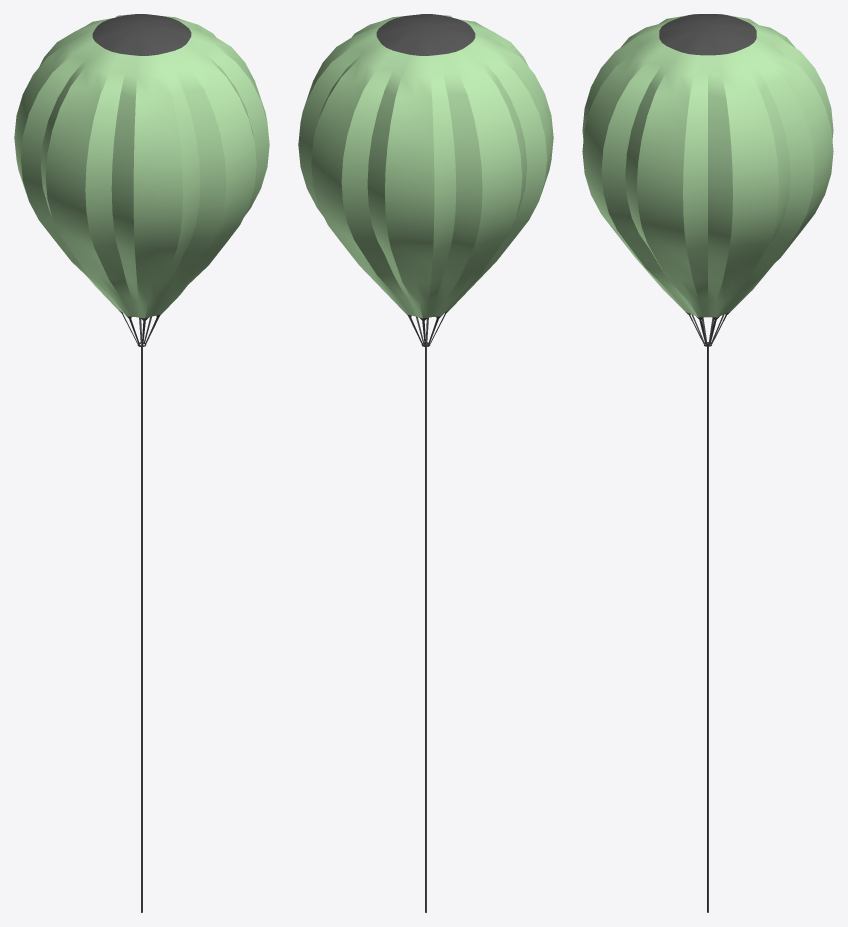
The model's file is ExteriorProps.fbx.
The picture shows the model from 3 angles, left to right: view 1: azimuth 30°, elevation 25°; view 2: azimuth 150°, elevation 25°; view 3: azimuth 270°, elevation 25°; orthographic projection.
Visible parts, largest first — view 1: Balon; view 2: Balon; view 3: Balon.
Boxes of the visible parts, x1,y1,x2,y2 form: Balon: (14, 14, 269, 912); Balon: (298, 14, 553, 912); Balon: (582, 14, 833, 912).
Size of the model in its own units: 198 by 770 by 198.
